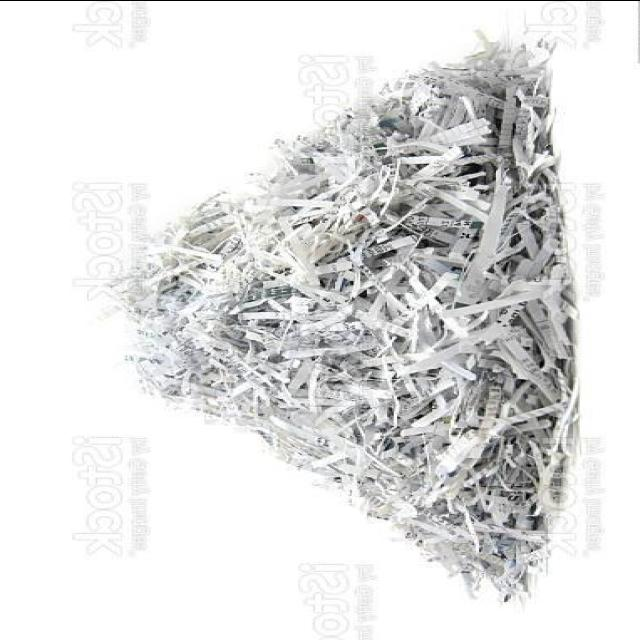kertas: (70, 46, 576, 603)
